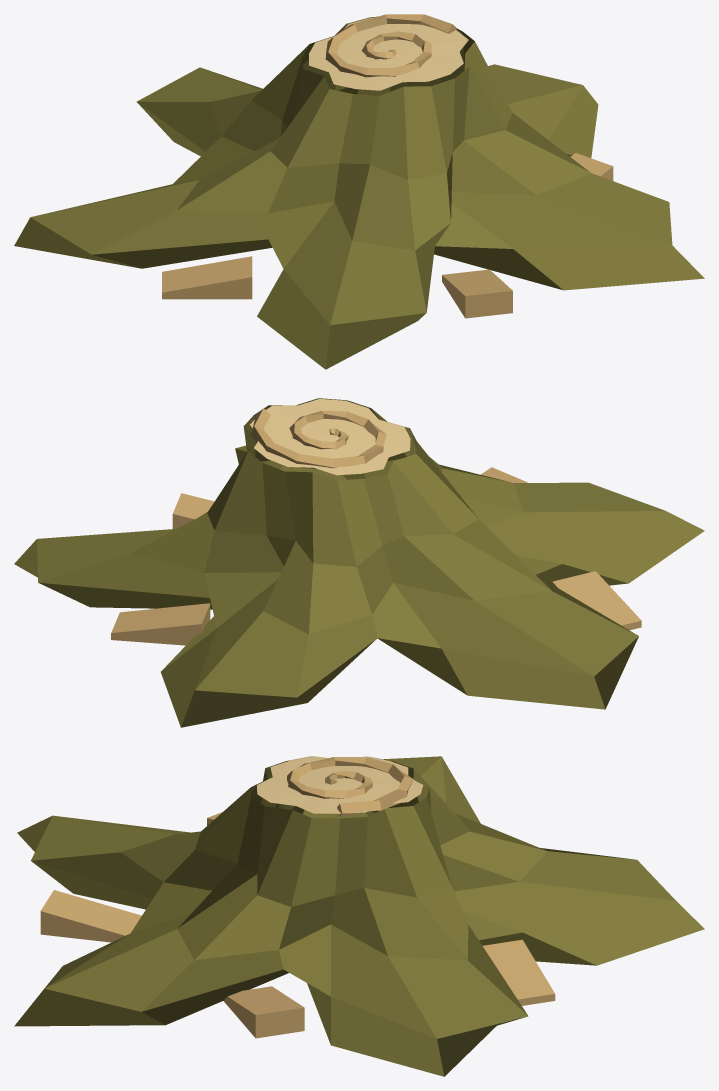
The model's file is tree-stump.glb.
The picture shows the model from 3 angles, top to bottom: view 1: azimuth 30°, elevation 25°; view 2: azimuth 150°, elevation 25°; view 3: azimuth 270°, elevation 25°; orthographic projection. The views are drawn at different scales.
Visible parts, largest first — view 1: stump, stump_cut, stump_rings, chip_1, chip_2, chip_3; view 2: stump, stump_cut, stump_rings, chip_0, chip_1, chip_3; view 3: stump, stump_cut, chip_2, stump_rings, chip_3, chip_0.
Boxes of the visible parts, x1,y1,x2,y2 form: stump: (14, 16, 704, 369); stump_cut: (309, 17, 468, 90); stump_rings: (325, 14, 456, 77); chip_1: (162, 256, 252, 299); chip_2: (442, 269, 512, 318); chip_3: (570, 153, 613, 180); stump: (14, 398, 704, 727); stump_cut: (250, 399, 410, 475); stump_rings: (250, 408, 386, 469); chip_0: (111, 603, 210, 645); chip_1: (552, 571, 641, 630); chip_3: (172, 493, 214, 528); stump: (14, 756, 704, 1076); stump_cut: (257, 756, 423, 813); chip_2: (40, 890, 141, 942); stump_rings: (287, 757, 413, 816); chip_3: (223, 986, 304, 1038); chip_0: (483, 939, 555, 1005).
Bounding box in the file's own units: 3.27 × 0.8837 × 3.2.
